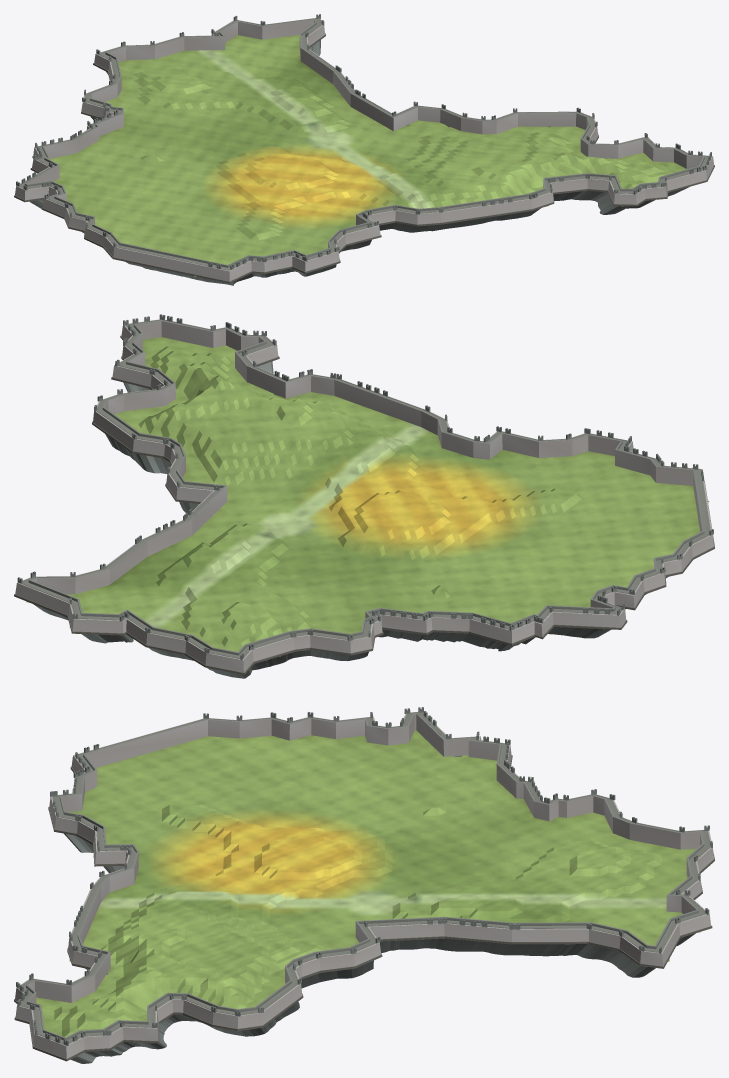
3 views of the same model, one above another, from view 1: azimuth 30°, elevation 25°; view 2: azimuth 150°, elevation 25°; view 3: azimuth 270°, elevation 25° (orthographic). The views are drawn at different scales.
Visible parts, largest first — view 1: ground_b3823dde; view 2: ground_b3823dde; view 3: ground_b3823dde.
Boxes of the visible parts, x1=… form: ground_b3823dde: x1=14, y1=14, x2=714, y2=285; ground_b3823dde: x1=14, y1=314, x2=714, y2=678; ground_b3823dde: x1=14, y1=707, x2=714, y2=1063.
Size of the model in its own units: 156 by 8.1 by 137.
Materials: 3 (1 with a texture image).
